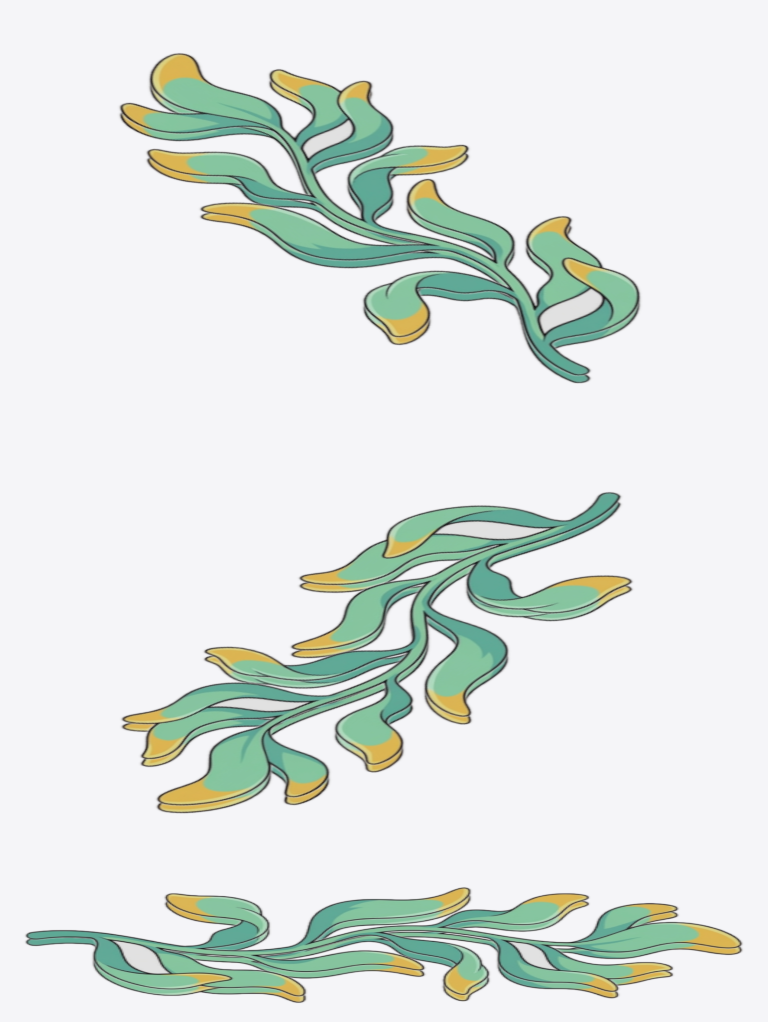
File: kelp.glb
The picture shows the model from 3 angles, top to bottom: view 1: azimuth 30°, elevation 25°; view 2: azimuth 150°, elevation 25°; view 3: azimuth 270°, elevation 25°; orthographic projection. The views are drawn at different scales.
Parts seen in each view (by area): view 1: kelp; view 2: kelp; view 3: kelp.
Part boxes in pixels (<box>): kelp: <box>118,52,641,383</box>; kelp: <box>120,491,633,813</box>; kelp: <box>24,887,743,1003</box>.
Bounding box in the file's own units: 2 × 0.05 × 5.25.
Materials: 1 (1 with a texture image).
